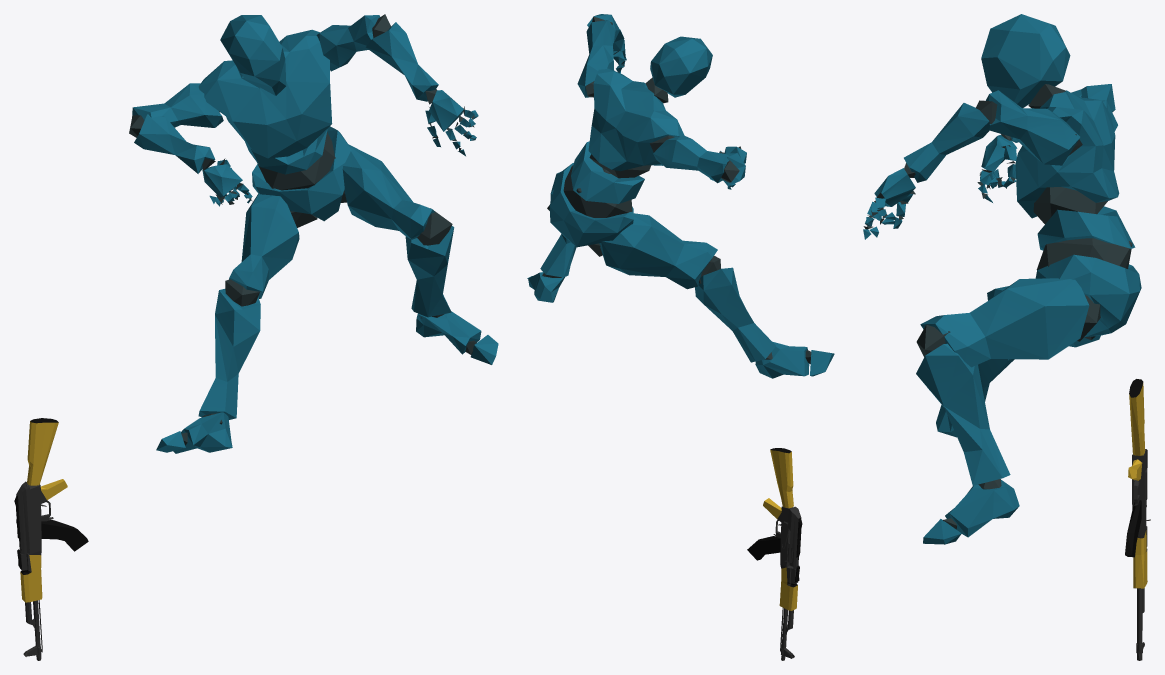
The model's file is EnemyDying_000087.obj.
3 views of the same model, side by side, from view 1: azimuth 30°, elevation 25°; view 2: azimuth 150°, elevation 25°; view 3: azimuth 270°, elevation 25° (orthographic). The views are drawn at different scales.
Parts seen in each view (by area): view 1: Alpha_Surface, AK-47_Cube, Alpha_Joints; view 2: Alpha_Surface, AK-47_Cube, Alpha_Joints; view 3: Alpha_Surface, Alpha_Joints, AK-47_Cube.
Part boxes in pixels (x1,y1,x2,y2): Alpha_Surface: [132, 15, 498, 453]; AK-47_Cube: [14, 418, 88, 660]; Alpha_Joints: [129, 14, 476, 445]; Alpha_Surface: [527, 14, 834, 378]; AK-47_Cube: [747, 448, 802, 660]; Alpha_Joints: [542, 16, 811, 363]; Alpha_Surface: [863, 14, 1141, 544]; Alpha_Joints: [863, 84, 1132, 529]; AK-47_Cube: [1125, 379, 1150, 660].
Size of the model in its own units: 289 by 444 by 158.
